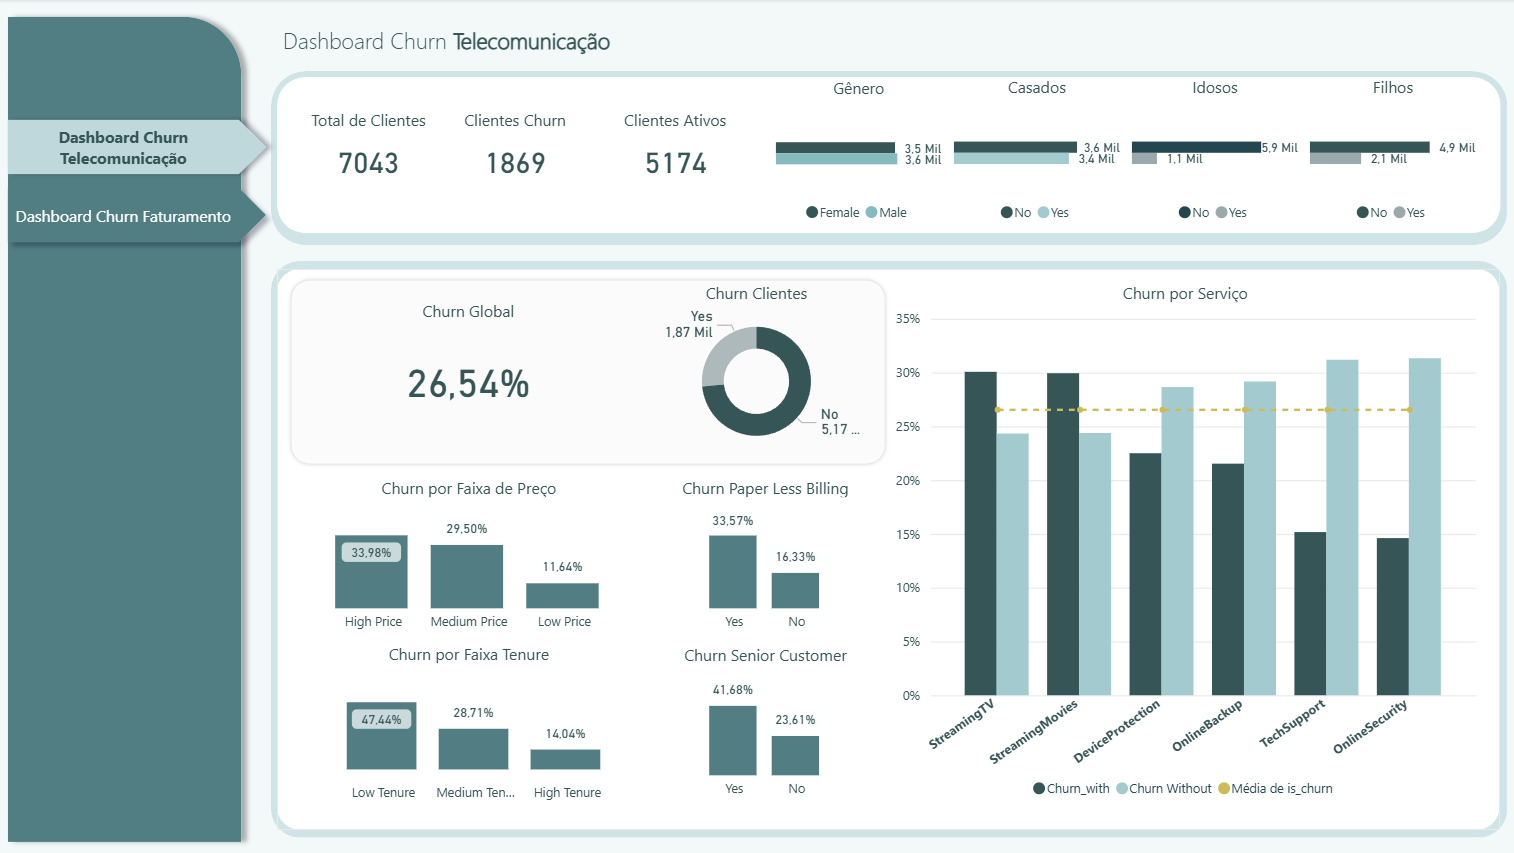

This screenshot's page, from the dashboard's own definition file:
{"tool":"powerbi","page":{"name":"Dashboard Churn Telecomunicação","canvas":[1280,720],"ordinal":0},"visuals":[{"type":"shape","box":[0,6.3,214.9,713.7],"z":0},{"type":"textbox","box":[236.4,17.3,315.5,43.6],"z":1000},{"type":"shape","box":[231,60.9,1042.4,146.9],"z":2000},{"type":"shape","box":[231,221.2,1042.4,486.3],"z":3000},{"type":"shape","box":[236.4,65.4,1031.6,131.6],"z":4000},{"type":"shape","box":[236.4,227.5,1030.7,472.8],"z":5000},{"type":"shape","box":[244.5,233.7,507.8,162.1],"z":6000},{"type":"card","title":"Churn Global","fields":{"Values":["Avg(Telco-Customer-Churn.is_churn)"]},"box":[263.3,253.4,268.7,119.1],"z":7000},{"type":"donutChart","title":"Churn Clientes","fields":{"Category":["Telco-Customer-Churn.Churn"],"Y":["CountNonNull(Telco-Customer-Churn.is_churn)"]},"box":[540,238.2,199.7,150.4],"z":8000},{"type":"lineClusteredColumnComboChart","title":"Churn por Serviço","fields":{"Category":["Telco-Customer-Pivotada.Servico"],"Y":["Telco-Customer-Pivotada.Churn_with","Telco-Customer-Pivotada.Churn Without"],"Y2":["Avg(Telco-Customer-Churn.is_churn)"]},"box":[752.2,238.2,499.7,445.1],"z":9000},{"type":"lineClusteredColumnComboChart","title":"Churn por Faixa de Preço","fields":{"Category":["Telco-Customer-Churn.faixa_price"],"Y":["Avg(Telco-Customer-Churn.is_churn)"]},"box":[248,403,300,139.7],"z":10000},{"type":"lineClusteredColumnComboChart","title":"Churn por Faixa Tenure","fields":{"Y":["Avg(Telco-Customer-Churn.is_churn)"],"Category":["Telco-Customer-Churn.faixa_tenure"]},"box":[248,542.7,300,140.6],"z":11000},{"type":"lineClusteredColumnComboChart","title":"Churn Senior Customer","fields":{"Y":["Avg(Telco-Customer-Churn.is_churn)"],"Category":["Telco-Customer-Churn.yes_senior"]},"box":[548,543.6,199.7,139.7],"z":12000},{"type":"lineClusteredColumnComboChart","title":"Churn Paper Less Billing","fields":{"Y":["Avg(Telco-Customer-Churn.is_churn)"],"Category":["Telco-Customer-Churn.PaperlessBilling"]},"box":[548,403,199.7,139.7],"z":13000},{"type":"card","title":"Total de Clientes ","fields":{"Values":["CountNonNull(Telco-Customer-Churn.customerID)"]},"box":[257,93.1,111.9,72.5],"z":14000},{"type":"clusteredBarChart","title":"Gênero","fields":{"Series":["Telco-Customer-Churn.gender"],"Y":["CountNonNull(Telco-Customer-Churn.customerID)"]},"box":[651.9,65.4,149.6,131.6],"z":15000},{"type":"clusteredBarChart","title":"Casados","fields":{"Y":["CountNonNull(Telco-Customer-Churn.customerID)"],"Series":["Telco-Customer-Churn.Partner"]},"box":[801.5,64.6,150,132.5],"z":16000},{"type":"clusteredBarChart","title":"Idosos","fields":{"Y":["CountNonNull(Telco-Customer-Churn.customerID)"],"Series":["Telco-Customer-Churn.yes_senior"]},"box":[951.5,64.6,150,132.5],"z":17000},{"type":"clusteredBarChart","title":"Filhos","fields":{"Y":["CountNonNull(Telco-Customer-Churn.customerID)"],"Series":["Telco-Customer-Churn.Dependents"]},"box":[1101.5,64.6,150,132.5],"z":18000},{"type":"card","title":"Clientes Churn","fields":{"Values":["CountNonNull(Telco-Customer-Churn.customerID)"]},"box":[369,93.1,135,71.6],"z":19000},{"type":"card","title":"Clientes Ativos","fields":{"Values":["CountNonNull(Telco-Customer-Churn.customerID)"]},"box":[504.2,93.1,135.2,71.6],"z":20000},{"type":"pageNavigator","box":[0,93.1,236.4,64.5],"z":21000},{"type":"pageNavigator","box":[0,150.4,236.4,64.5],"z":22000}]}

Visuals, with their boxes on the page's 1280x720 design canvas (x1, y1, x2, y2). These are canvas units, not pixel positions in the 1514x853 screenshot, which may show the page scaled, cropped or inside an application window:
shape: (0, 6, 215, 720)
textbox: (236, 17, 552, 61)
shape: (231, 61, 1273, 208)
shape: (231, 221, 1273, 708)
shape: (236, 65, 1268, 197)
shape: (236, 228, 1267, 700)
shape: (244, 234, 752, 396)
"Churn Global" card: (263, 253, 532, 372)
"Churn Clientes" donutChart: (540, 238, 740, 389)
"Churn por Serviço" lineClusteredColumnComboChart: (752, 238, 1252, 683)
"Churn por Faixa de Preço" lineClusteredColumnComboChart: (248, 403, 548, 543)
"Churn por Faixa Tenure" lineClusteredColumnComboChart: (248, 543, 548, 683)
"Churn Senior Customer" lineClusteredColumnComboChart: (548, 544, 748, 683)
"Churn Paper Less Billing" lineClusteredColumnComboChart: (548, 403, 748, 543)
"Total de Clientes " card: (257, 93, 369, 166)
"Gênero" clusteredBarChart: (652, 65, 802, 197)
"Casados" clusteredBarChart: (802, 65, 952, 197)
"Idosos" clusteredBarChart: (952, 65, 1102, 197)
"Filhos" clusteredBarChart: (1102, 65, 1252, 197)
"Clientes Churn" card: (369, 93, 504, 165)
"Clientes Ativos" card: (504, 93, 639, 165)
pageNavigator: (0, 93, 236, 158)
pageNavigator: (0, 150, 236, 215)
